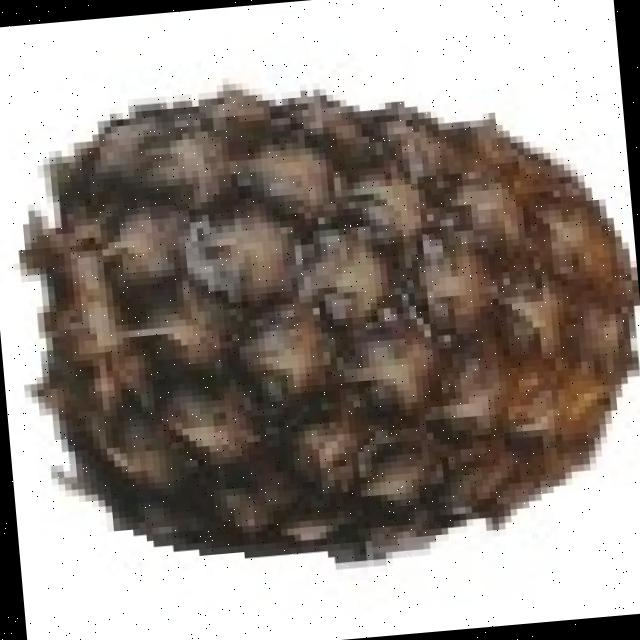pineapple: (31, 82, 638, 543)
